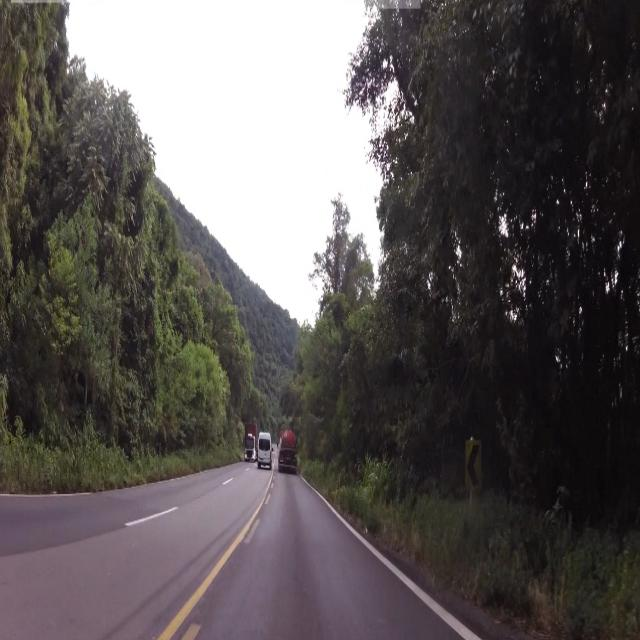Del: (464, 436, 486, 494)
